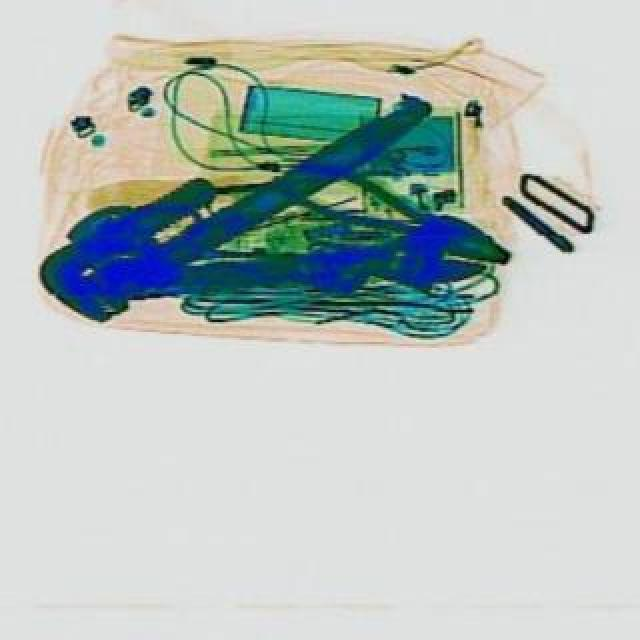wrench: (264, 144, 516, 282)
